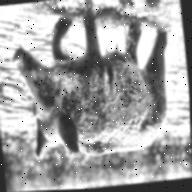boar: (6, 5, 192, 180)
